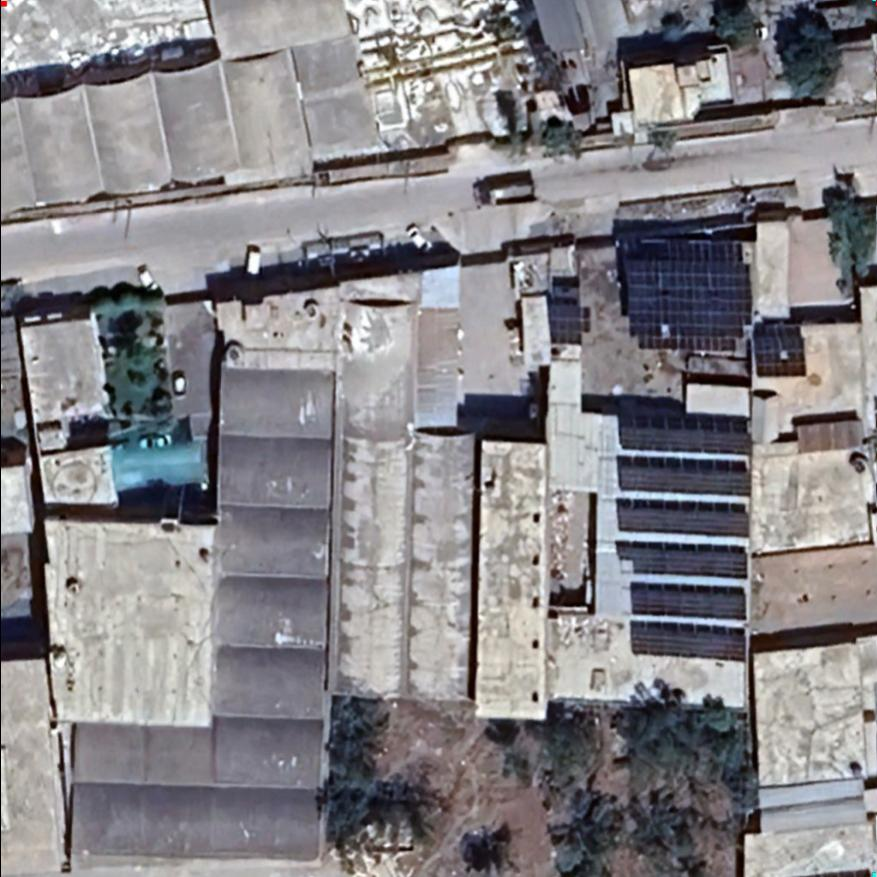Solarpanel: (619, 237, 754, 353), (617, 420, 753, 457), (617, 461, 752, 498), (629, 622, 747, 663), (615, 503, 751, 538), (628, 585, 747, 620), (754, 321, 807, 379), (548, 300, 591, 347)
